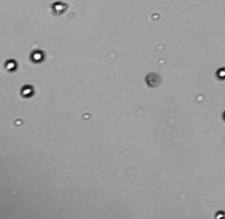Dead Cell: (146, 73, 161, 86)
Living Cell: (52, 1, 66, 15), (29, 49, 43, 62), (21, 84, 34, 97), (5, 58, 17, 72)
